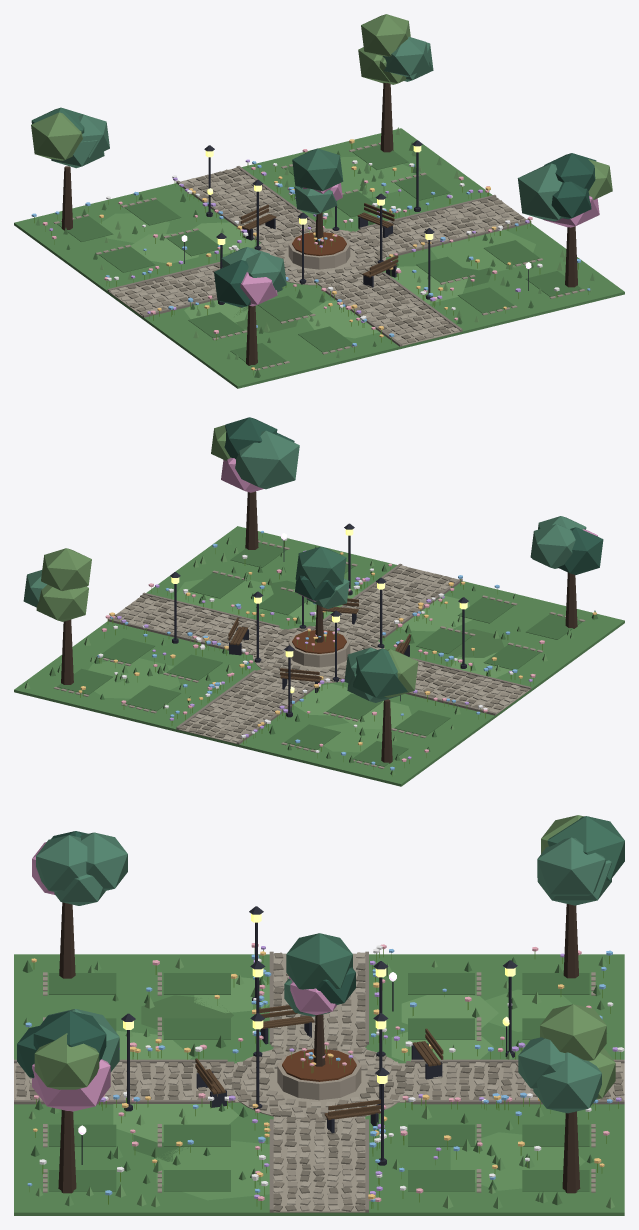
File: park_C_alt2.glb
The picture shows the model from 3 angles, top to bottom: view 1: azimuth 30°, elevation 25°; view 2: azimuth 150°, elevation 25°; view 3: azimuth 270°, elevation 25°; orthographic projection. The views are drawn at different scales.
Visible parts, largest first — view 1: park_C_alt2; view 2: park_C_alt2; view 3: park_C_alt2.
Part boxes in pixels (x1,y1,x2,y2): park_C_alt2: (14, 14, 624, 388); park_C_alt2: (14, 417, 624, 786); park_C_alt2: (14, 815, 624, 1215).
Size of the model in its own units: 16.33 by 5.47 by 16.
